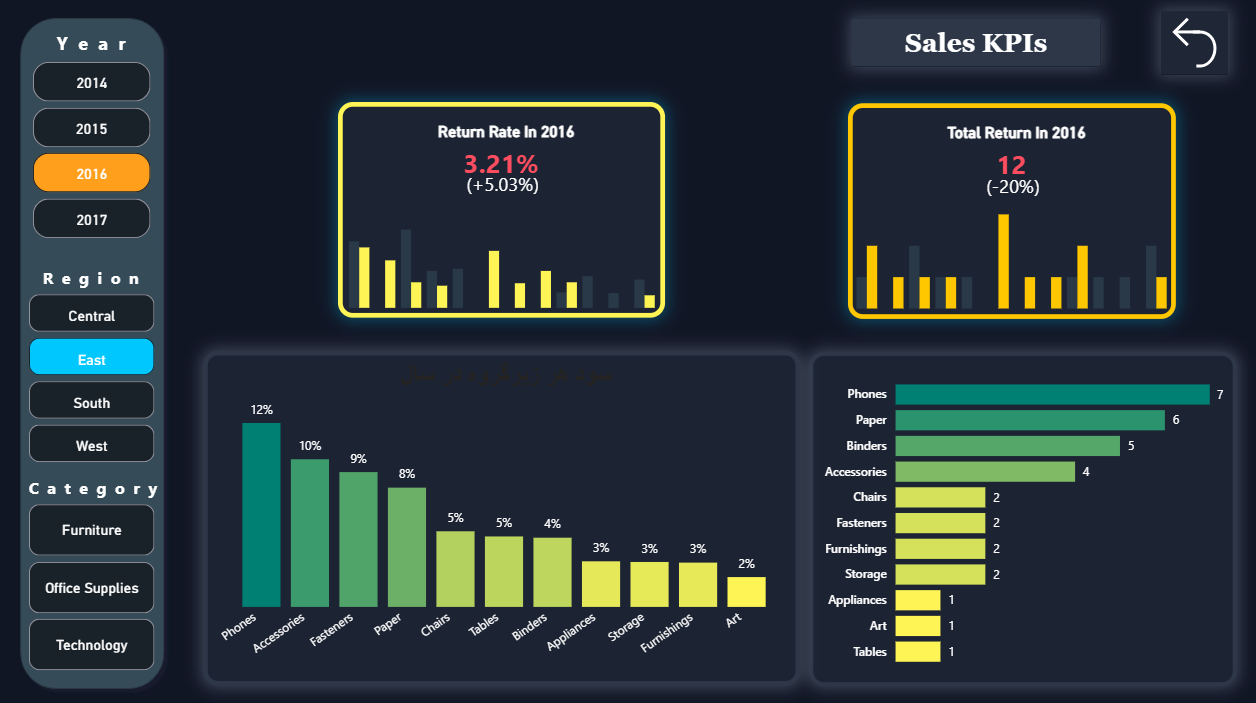

The dashboard page shown, as its layout file describes it:
{"tool":"powerbi","page":{"name":"Returns KPIs","canvas":[1280,720],"ordinal":1},"visuals":[{"type":"shape","box":[14.7,13.6,160.6,694.2],"z":0},{"type":"group","id":"g1","title":"Group 4","box":[20.4,29.4,151.5,658],"z":1000},{"type":"advancedSlicerVisual","fields":{"Values":["Year 2.Year"]},"box":[27.2,57.7,137.9,196.7],"z":1000,"group":"g1"},{"type":"kpi","fields":{"TrendLine":["TotalSales.تاریخ سفارش"],"Indicator":["Returns.CY Returns Rate"],"Goal":["Returns.PY Returns Rate"]},"box":[344.7,106.3,331,218],"z":2000,"group":"g3"},{"type":"group","id":"g2","title":"Group 1","box":[860.4,107.4,332.4,218.2],"z":2000},{"type":"group","id":"g3","title":"Group 2","box":[344.7,106.3,331.3,218.2],"z":3000},{"type":"kpi","fields":{"TrendLine":["TotalSales.تاریخ سفارش"],"Indicator":["Returns.CY Returns"],"Goal":["Returns.PY Returns"]},"box":[860.4,107.4,331.6,218.2],"z":4000,"group":"g2"},{"type":"barChart","fields":{"Category":["TotalSales.زیر گروه کالا"],"Y":["Returns.CY Returns"]},"box":[822,359.5,433,338.1],"z":4000},{"type":"clusteredColumnChart","title":"ترند ماهیانه فروش","fields":{"Category":["TotalSales.تاریخ ارسال.Variation.Date Hierarchy.Month"],"Y":["Returns.PY Returns Rate","Returns.CY Returns Rate"]},"box":[351.5,200.1,320,121],"z":4500,"group":"g3"},{"type":"columnChart","title":"سود هر زیرگروه در سال ","fields":{"Category":["TotalSales.زیر گروه کالا"],"Y":["Returns.CY Returns Rate"]},"box":[208,358.4,604.9,339.2],"z":5000},{"type":"actionButton","box":[1177,13.6,69,64.4],"z":6000},{"type":"pageNavigator","box":[865,21.5,252.1,49.7],"z":7000},{"type":"advancedSlicerVisual","fields":{"Values":["TotalSales.ناحیه"]},"box":[27.2,296.2,137.9,180.9],"z":7000,"group":"g1"},{"type":"clusteredColumnChart","title":"ترند ماهیانه تعداد سفارشات","fields":{"Category":["TotalSales.تاریخ ارسال.Variation.Date Hierarchy.Month"],"Y":["Returns.PY Returns","Returns.CY Returns"]},"box":[864.4,206,324.5,115.3],"z":7500,"group":"g2"},{"type":"advancedSlicerVisual","fields":{"Values":["TotalSales.گروه کالا"]},"box":[27.2,508.8,137.9,178.6],"z":9000,"group":"g1"},{"type":"textbox","box":[48.7,29.4,92.7,55.4],"z":10000,"group":"g1"},{"type":"textbox","box":[37.4,269.1,114.2,55.4],"z":11000,"group":"g1"},{"type":"textbox","box":[20.4,481.7,151.5,55.4],"z":12000,"group":"g1"}]}

Visuals, with their boxes in screenshot pixels (x1, y1, x2, y2), scaled from the page's 1280x720 canvas onto the 1256x703 screenshot:
shape: detection(14, 13, 172, 691)
"Group 4" group: detection(20, 29, 169, 671)
advancedSlicerVisual - Year 2.Year: detection(27, 56, 162, 248)
kpi - TotalSales.تاریخ سفارش x Returns.CY Returns Rate: detection(338, 104, 663, 317)
"Group 1" group: detection(844, 105, 1170, 318)
"Group 2" group: detection(338, 104, 663, 317)
kpi - TotalSales.تاریخ سفارش x Returns.CY Returns: detection(844, 105, 1170, 318)
barChart - TotalSales.زیر گروه کالا x Returns.CY Returns: detection(807, 351, 1231, 681)
"ترند ماهیانه فروش" clusteredColumnChart: detection(345, 195, 659, 314)
"سود هر زیرگروه در سال " columnChart: detection(204, 350, 798, 681)
actionButton: detection(1155, 13, 1223, 76)
pageNavigator: detection(849, 21, 1096, 70)
advancedSlicerVisual - TotalSales.ناحیه: detection(27, 289, 162, 466)
"ترند ماهیانه تعداد سفارشات" clusteredColumnChart: detection(848, 201, 1167, 314)
advancedSlicerVisual - TotalSales.گروه کالا: detection(27, 497, 162, 671)
textbox: detection(48, 29, 139, 83)
textbox: detection(37, 263, 149, 317)
textbox: detection(20, 470, 169, 524)
